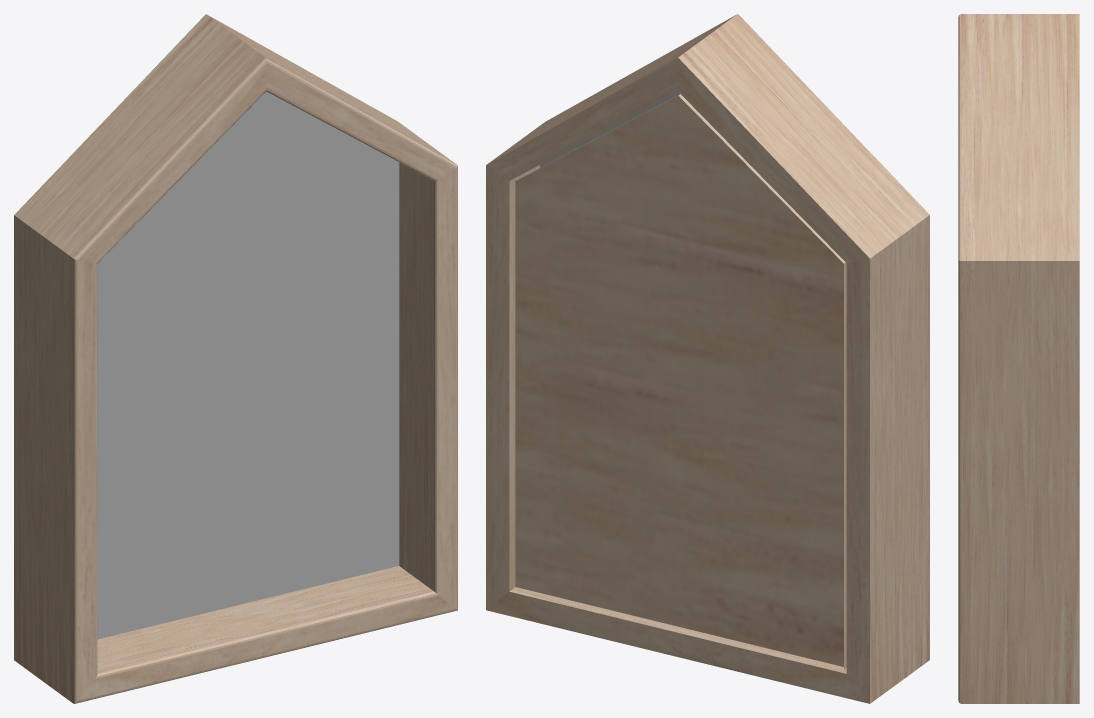
Rendered from HouseWoodenFigur.fbx.
3 views of the same model, side by side, from view 1: azimuth 30°, elevation 25°; view 2: azimuth 150°, elevation 25°; view 3: azimuth 270°, elevation 25° (orthographic).
Parts seen in each view (by area): view 1: lamp-house01; view 2: lamp-house01; view 3: lamp-house01.
Part boxes in pixels (bbox=[...]): lamp-house01: bbox=[14, 14, 457, 703]; lamp-house01: bbox=[486, 14, 929, 703]; lamp-house01: bbox=[958, 14, 1079, 703].
Bounding box in the file's own units: 12.69 × 18.94 × 3.49.
